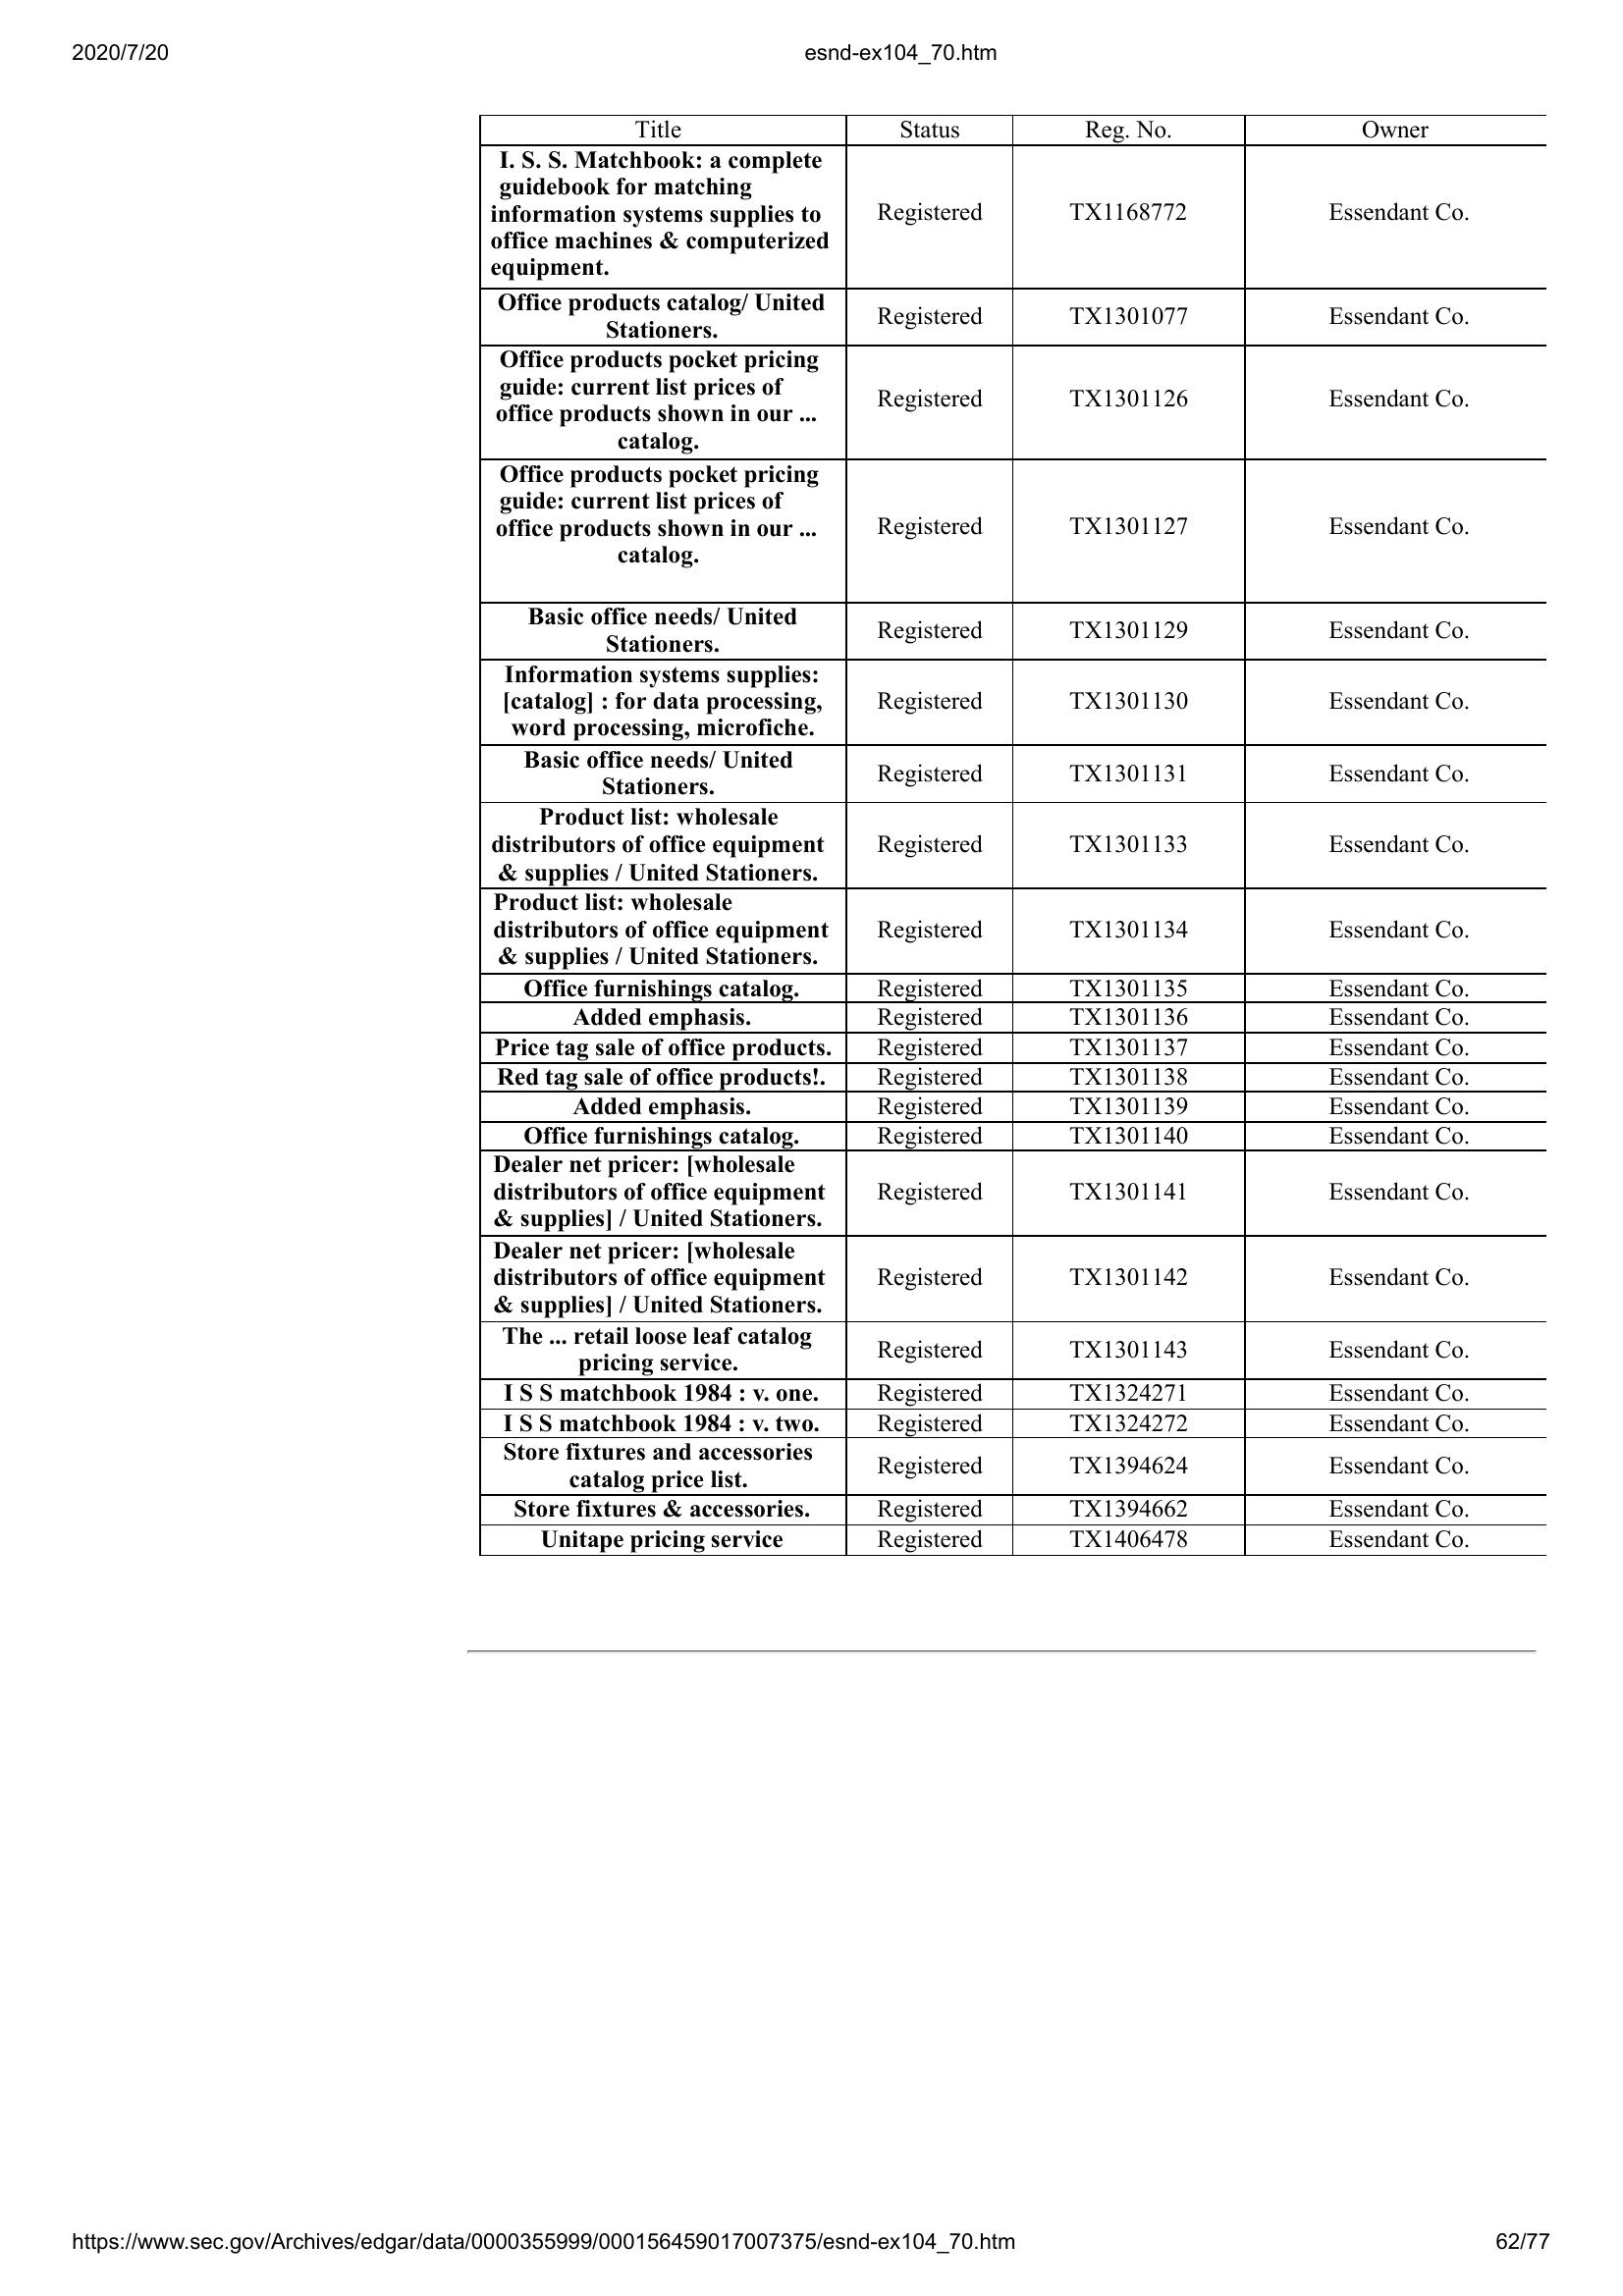table: (472, 109, 1560, 1561)
